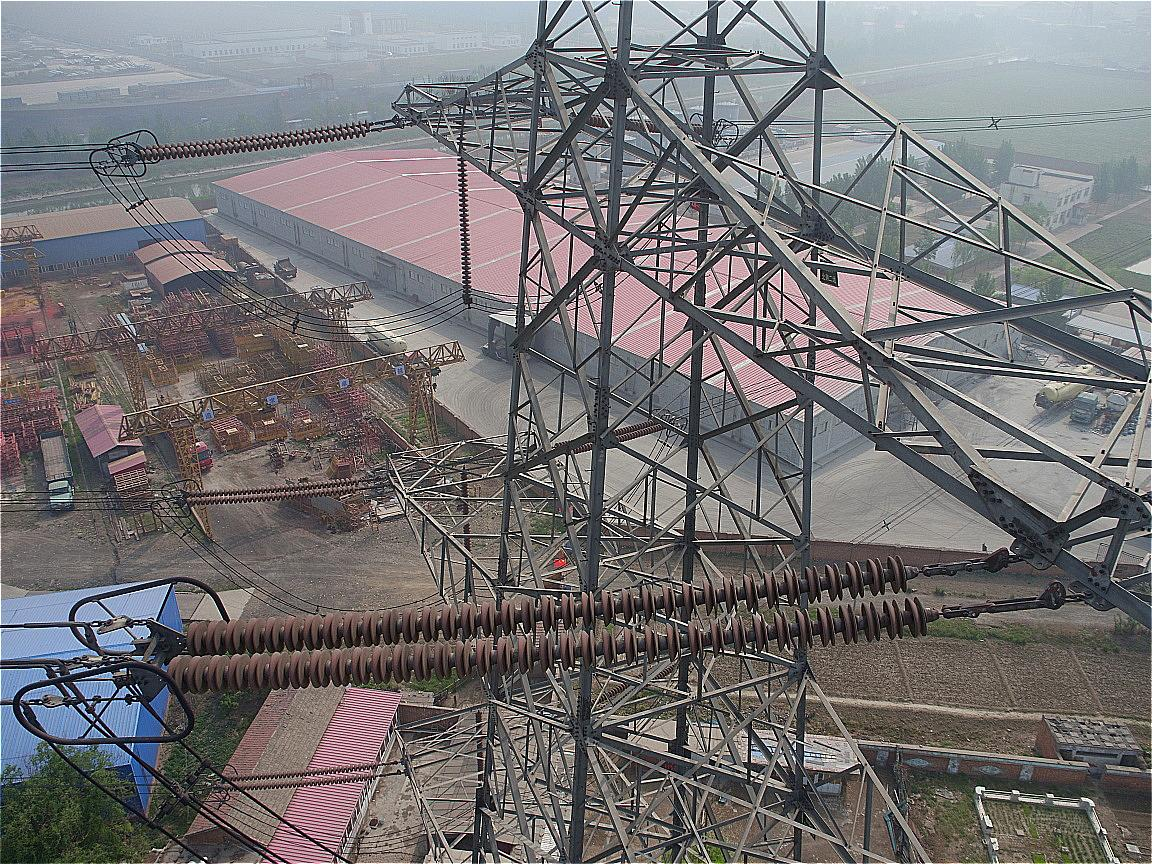insultor2: (158, 536, 950, 703)
